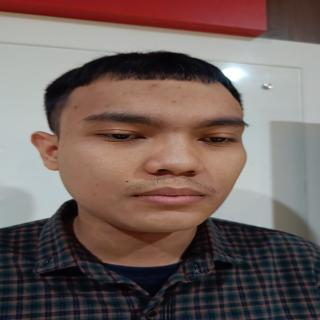Sedih: (51, 78, 252, 240)
